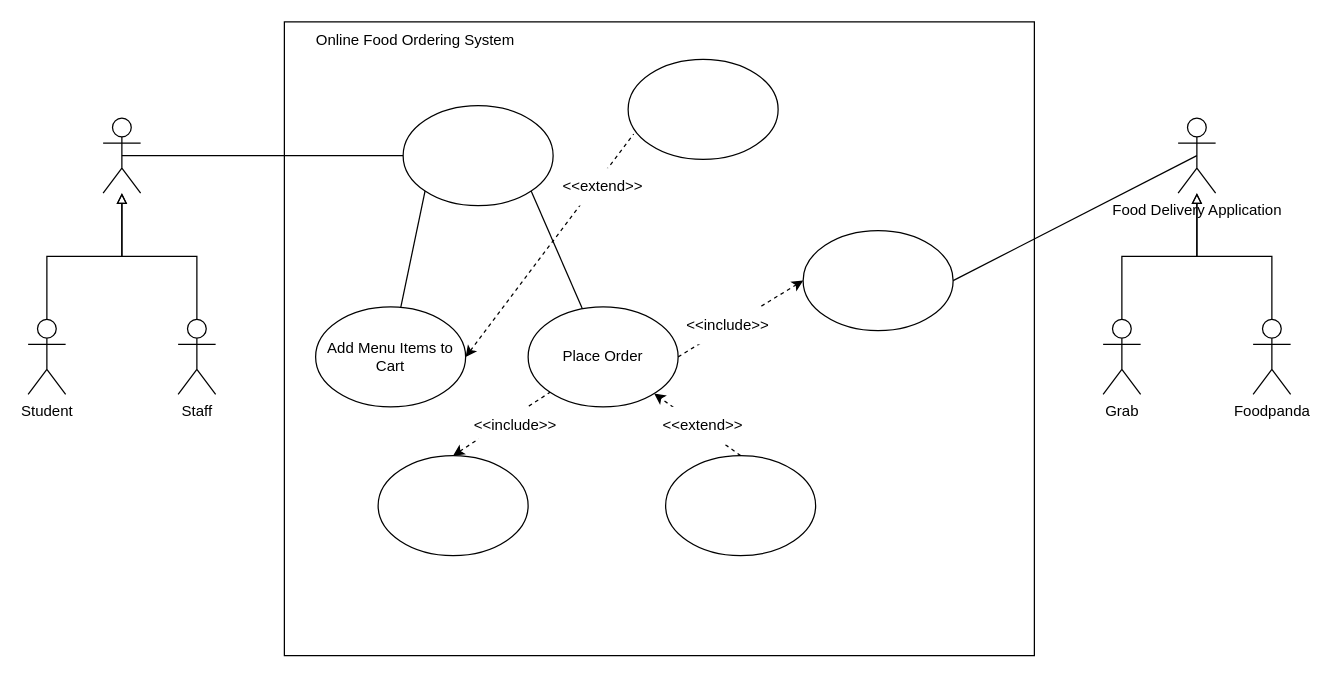
Some shapes in this 1331 by 678 pixel diagram are drawn without their labels. Each missing label, with the centre of its shape:
"Apply Discount Code" belongs at (x=740, y=505).
"Calculate Total Price" belongs at (x=452, y=505).
"Customer" belongs at (x=121, y=155).
"Input Dietary Restrictions" belongs at (x=702, y=108).
"Select Delivery Option" belongs at (x=877, y=280).
"View Menu" belongs at (x=477, y=155).
